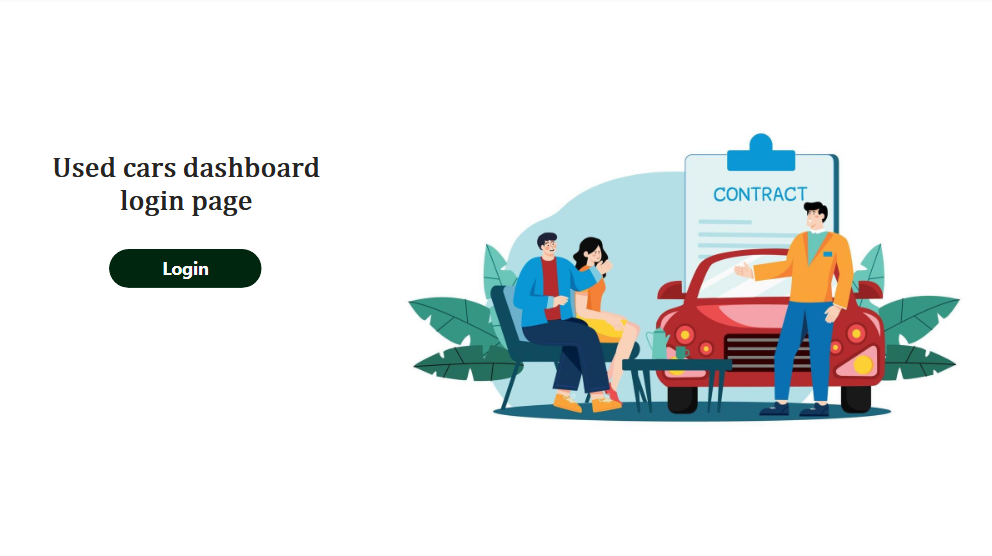

This screenshot's page, from the dashboard's own definition file:
{"tool":"powerbi","page":{"name":"Log in ","canvas":[1280,720],"ordinal":0},"visuals":[{"type":"image","box":[483,0,797.3,720.4],"z":0},{"type":"textbox","box":[23.1,194.1,436.9,105.4],"z":1000},{"type":"actionButton","box":[142.7,323.9,196.6,50.1],"z":2000}]}

Visuals, with their boxes in screenshot pixels (x1, y1, x2, y2), scaled from the page's 1280x720 canvas onto the 992x556 screenshot:
image: pyautogui.locateOnScreen(374, 0, 991, 555)
textbox: pyautogui.locateOnScreen(18, 150, 356, 231)
actionButton: pyautogui.locateOnScreen(111, 250, 263, 289)
